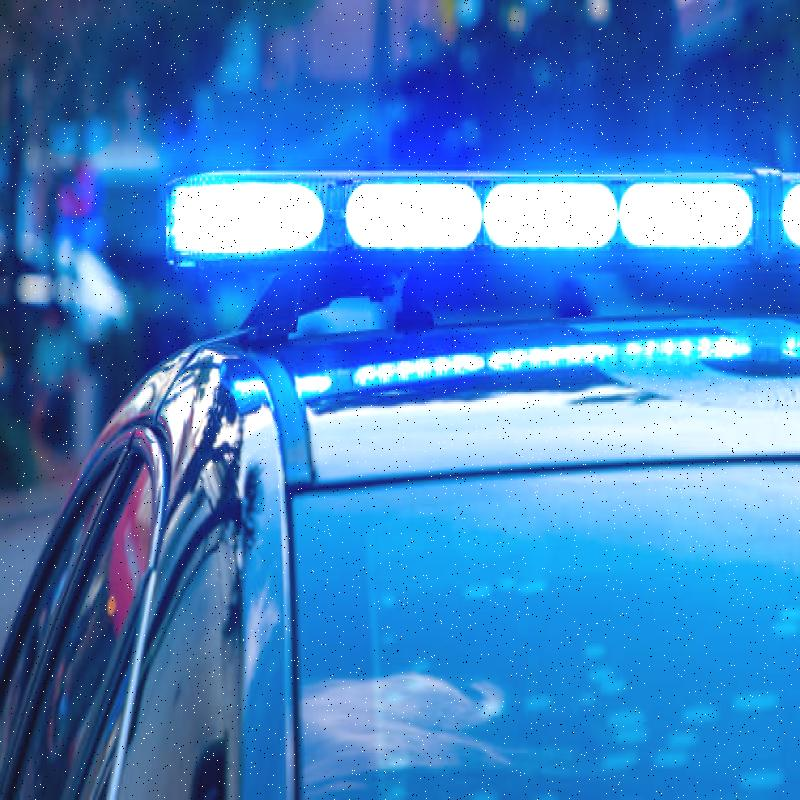AmbulanceSiren: (149, 134, 800, 322)
